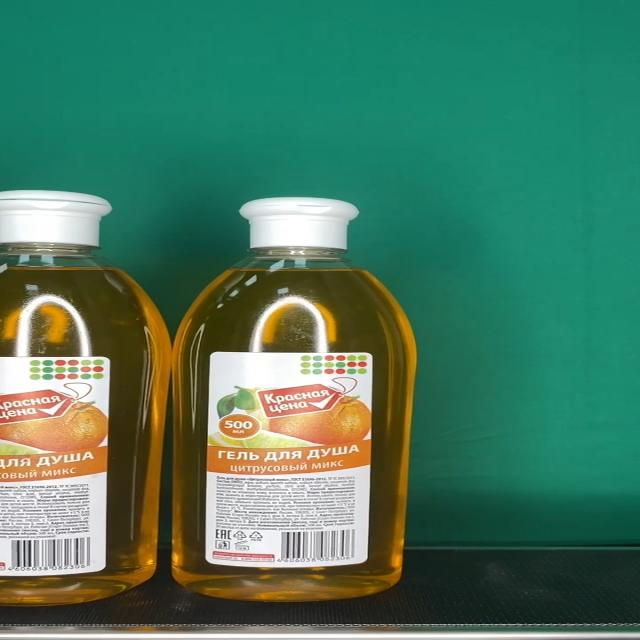Bottle: (170, 196, 420, 601)
Cap: (238, 198, 359, 251)
